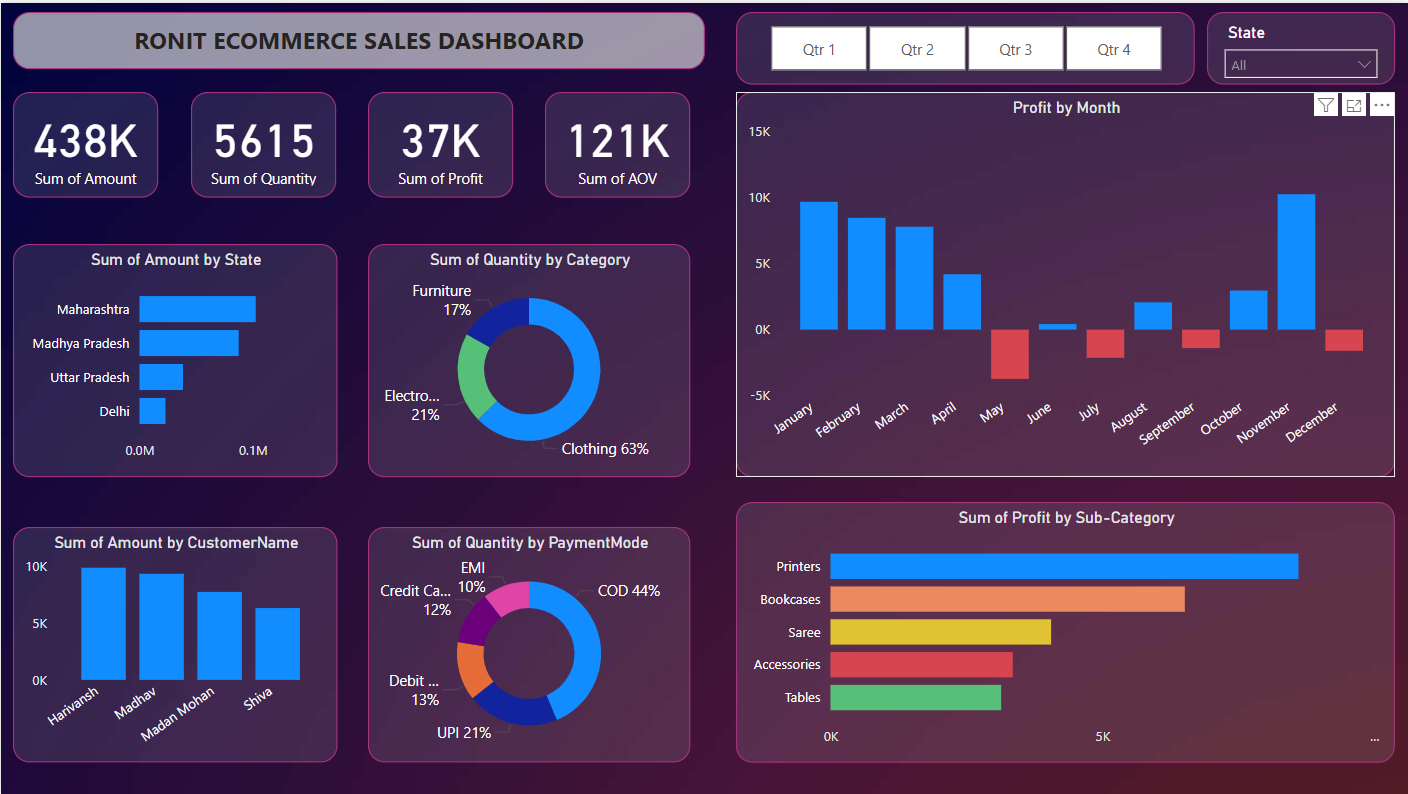

What the dashboard file says about the page in this screenshot:
{"tool":"powerbi","page":{"name":"Page 1","canvas":[1280,720],"ordinal":0},"visuals":[{"type":"textbox","box":[10.7,7.8,629.3,51.6],"z":0},{"type":"columnChart","title":"Profit by Month","fields":{"Y":["Details.Profit"],"Category":["Orders.Order Date.Variation.Date Hierarchy.Month"]},"box":[668.2,80.7,599.1,350.2],"z":1000},{"type":"clusteredBarChart","fields":{"Category":["Details.Sub-Category"],"Y":["Details.Profit"]},"box":[668.2,453.3,599.1,237.3],"z":2000},{"type":"donutChart","fields":{"Y":["Details.Quantity"],"Category":["Details.PaymentMode"]},"box":[333.6,476.6,292.8,214],"z":3000},{"type":"donutChart","fields":{"Category":["Details.Category"],"Y":["Details.Quantity"]},"box":[333.6,218.8,292.8,212],"z":4000},{"type":"card","fields":{"Values":["Details.Amount"]},"box":[10.7,80.7,132.3,96.3],"z":5000},{"type":"card","fields":{"Values":["Details.Quantity"]},"box":[173.1,80.7,132.3,96.3],"z":6000},{"type":"card","fields":{"Values":["Details.Profit"]},"box":[333.6,80.7,132.3,96.3],"z":7000},{"type":"card","fields":{"Values":["Details.AOV"]},"box":[494.1,80.7,132.3,96.3],"z":8000},{"type":"clusteredBarChart","fields":{"Category":["Orders.State"],"Y":["Details.Amount"]},"box":[10.7,218.8,294.7,212],"z":9000},{"type":"columnChart","fields":{"Category":["Orders.CustomerName"],"Y":["Details.Amount"]},"box":[10.7,476.6,294.7,214],"z":10000},{"type":"slicer","fields":{"Values":["Orders.Order Date.Variation.Date Hierarchy.Quarter"]},"box":[668.2,7.8,417.3,66.1],"z":11000},{"type":"slicer","fields":{"Values":["Orders.State"]},"box":[1096.2,7.8,171.2,66.1],"z":12000}]}

Visuals, with their boxes in screenshot pixels (x1, y1, x2, y2), scaled from the page's 1280x720 canvas onto the 1408x794 screenshot:
textbox: 12, 9, 704, 66
"Profit by Month" columnChart: 735, 89, 1394, 475
clusteredBarChart - Details.Sub-Category x Details.Profit: 735, 500, 1394, 762
donutChart - Details.Quantity x Details.PaymentMode: 367, 526, 689, 762
donutChart - Details.Category x Details.Quantity: 367, 241, 689, 475
card - Details.Amount: 12, 89, 157, 195
card - Details.Quantity: 190, 89, 336, 195
card - Details.Profit: 367, 89, 512, 195
card - Details.AOV: 544, 89, 689, 195
clusteredBarChart - Orders.State x Details.Amount: 12, 241, 336, 475
columnChart - Orders.CustomerName x Details.Amount: 12, 526, 336, 762
slicer - Orders.Order Date.Variation.Date Hierarchy.Quarter: 735, 9, 1194, 81
slicer - Orders.State: 1206, 9, 1394, 81
